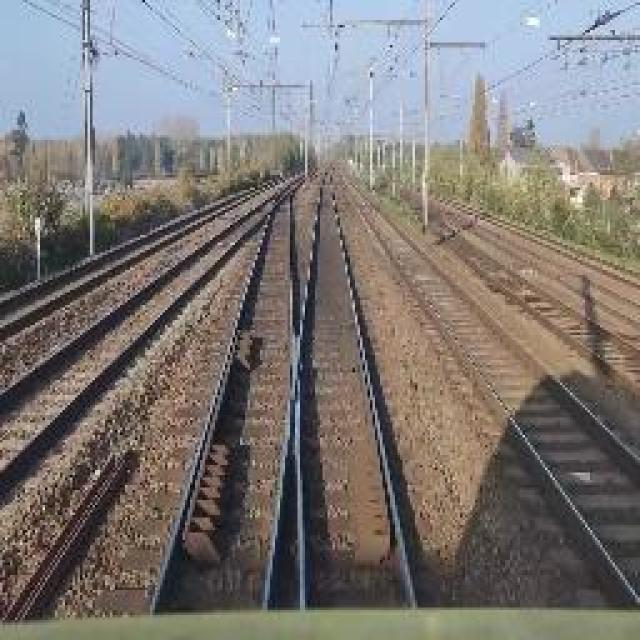rail: (0, 161, 431, 626), (327, 165, 640, 612)
